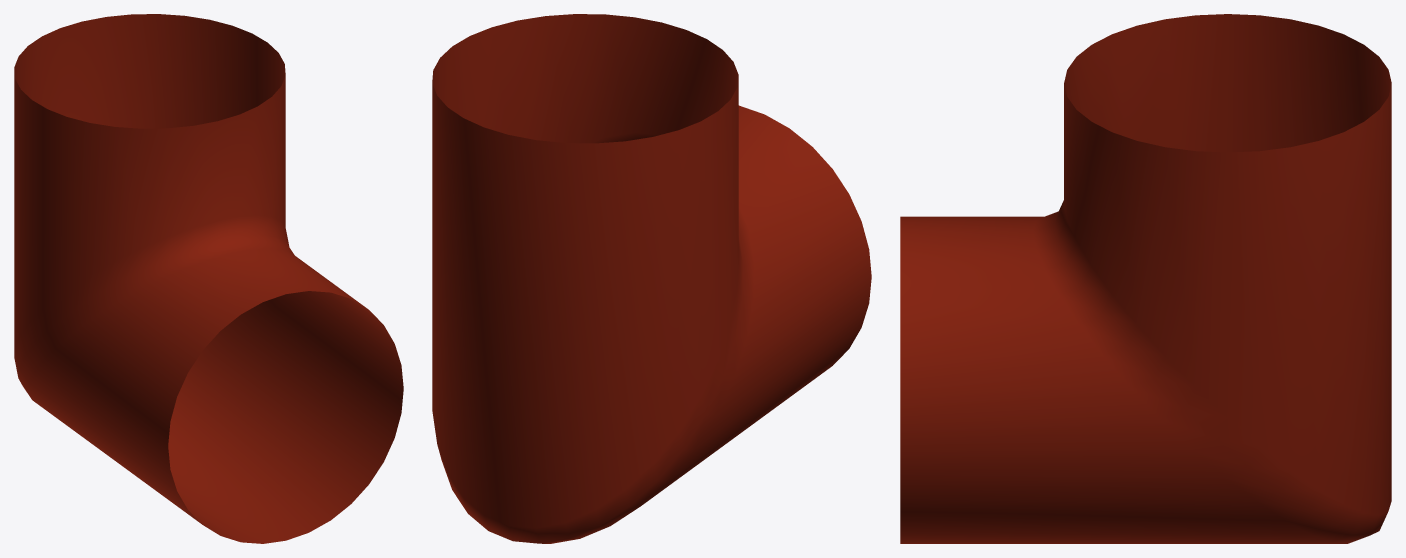
File: Lpipe.fbx
3 renders of one model, left to right at view 1: azimuth 30°, elevation 25°; view 2: azimuth 150°, elevation 25°; view 3: azimuth 270°, elevation 25°, orthographic. The views are drawn at different scales.
Visible parts, largest first — view 1: L piece; view 2: L piece; view 3: L piece.
Part boxes in pixels (bbox=[...]): L piece: bbox=[14, 14, 403, 543]; L piece: bbox=[432, 14, 871, 543]; L piece: bbox=[900, 14, 1391, 543].
Bounding box in the file's own units: 200 × 300 × 300.
